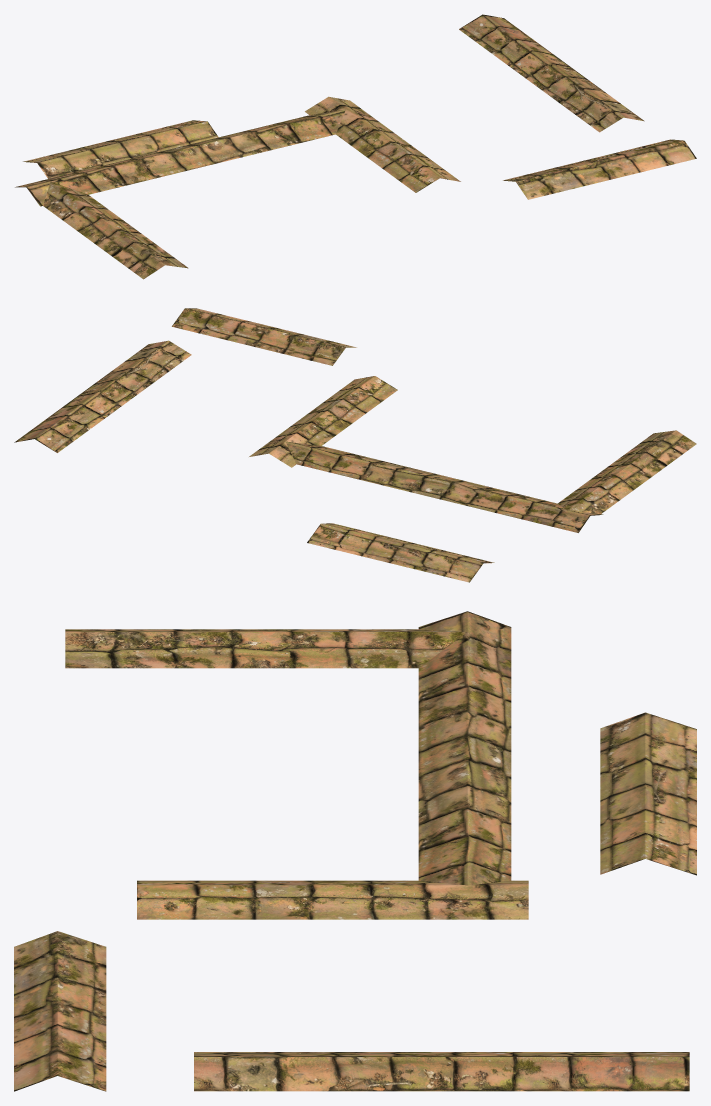
The model's file is building_rooftop.fbx.
3 views of the same model, one above another, from view 1: azimuth 30°, elevation 25°; view 2: azimuth 150°, elevation 25°; view 3: azimuth 270°, elevation 25° (orthographic). The views are drawn at different scales.
Parts seen in each view (by area): view 1: Cube.043, Cube.040, Cube.044, Cube.042, Cube.052, Cube.050; view 2: Cube.043, Cube.040, Cube.044, Cube.050, Cube.042, Cube.052; view 3: Cube.043, Cube.040, Cube.042, Cube.044, Cube.050, Cube.052.
Part boxes in pixels (bbox=[...]): Cube.043: bbox=[15, 109, 345, 206]; Cube.040: bbox=[459, 14, 644, 132]; Cube.044: bbox=[43, 181, 188, 279]; Cube.042: bbox=[305, 96, 460, 192]; Cube.052: bbox=[503, 139, 696, 199]; Cube.050: bbox=[23, 120, 218, 178]; Cube.043: bbox=[286, 441, 603, 532]; Cube.040: bbox=[14, 340, 191, 452]; Cube.044: bbox=[558, 430, 696, 513]; Cube.050: bbox=[307, 523, 494, 582]; Cube.042: bbox=[249, 376, 397, 467]; Cube.052: bbox=[172, 308, 356, 365]; Cube.043: bbox=[418, 611, 511, 885]; Cube.040: bbox=[194, 1052, 689, 1091]; Cube.042: bbox=[137, 880, 528, 919]; Cube.044: bbox=[65, 629, 466, 668]; Cube.050: bbox=[600, 712, 696, 875]; Cube.052: bbox=[14, 931, 106, 1091].
Size of the model in its own units: 21179 by 1389 by 13154.
